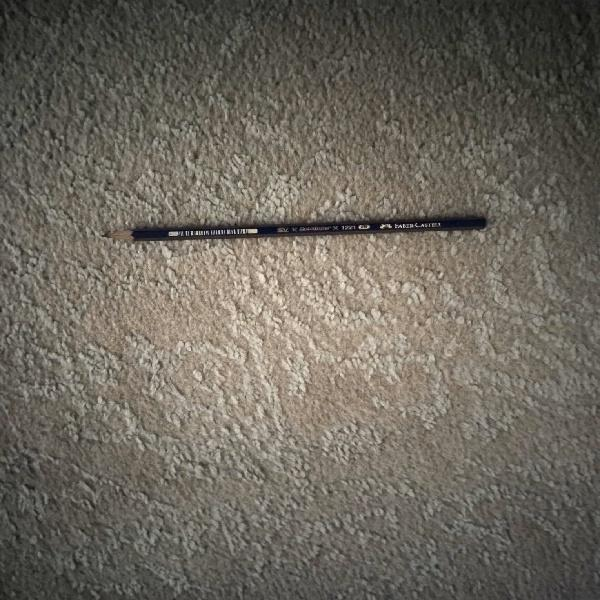pencil: (108, 217, 486, 241)
